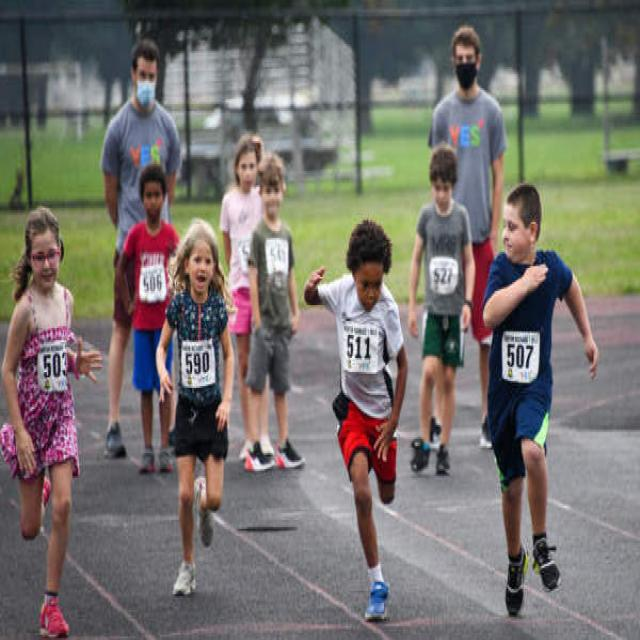Person: (483, 184, 598, 617), (2, 207, 102, 639), (305, 220, 407, 620), (101, 41, 182, 457), (428, 26, 507, 447), (156, 218, 234, 596), (408, 145, 476, 476), (117, 170, 180, 472), (246, 152, 303, 472), (222, 136, 263, 460)
